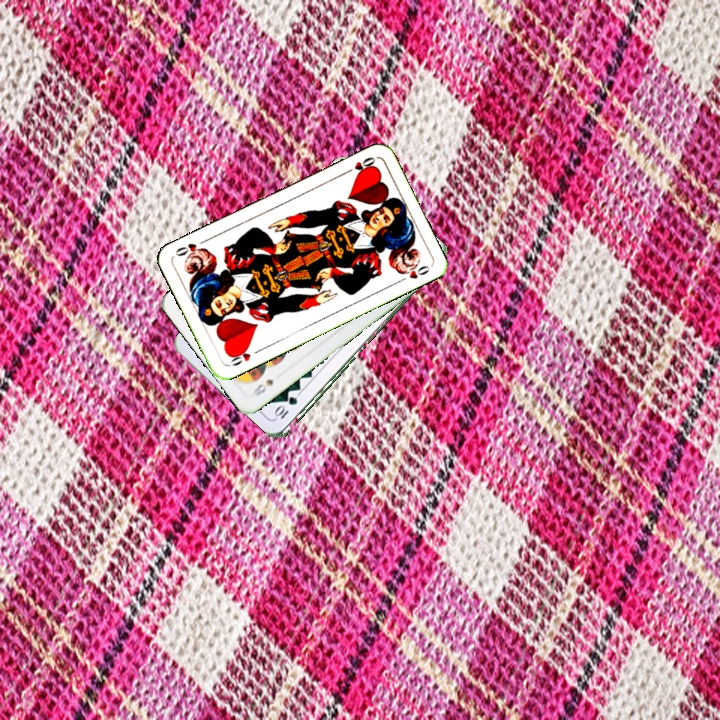G10: (272, 393, 300, 422)
HO: (226, 343, 263, 369), (341, 153, 378, 177)
S8: (250, 375, 276, 399)
